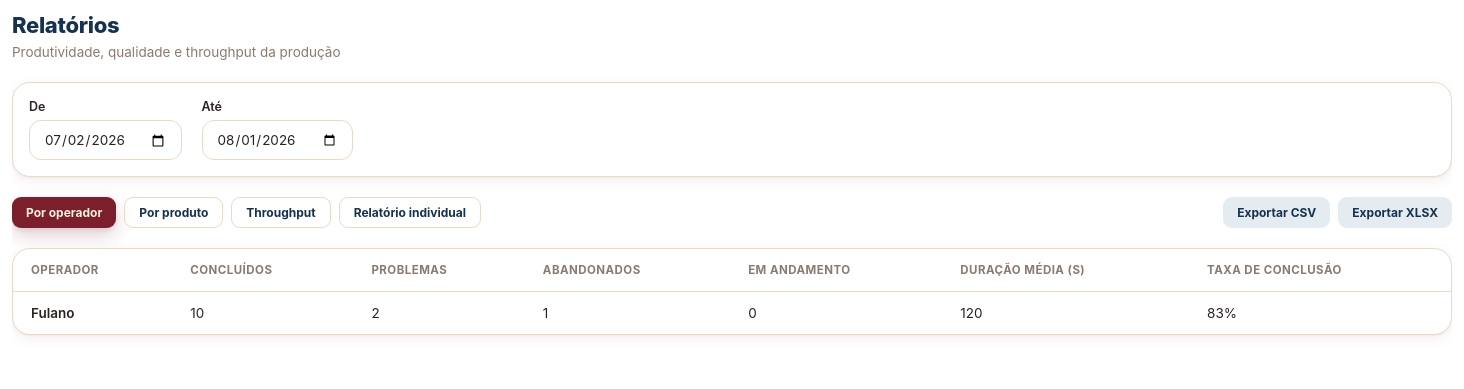
ReportsScreen › mostra erro genérico quando a exportação falha por um motivo que não é erro de domínio
Expected: the text "Fulano" is shown, 13,292 -> 172,334
Click the button with test id "export-csv". click: (1277, 213)
box: 1223,197 -> 1330,228
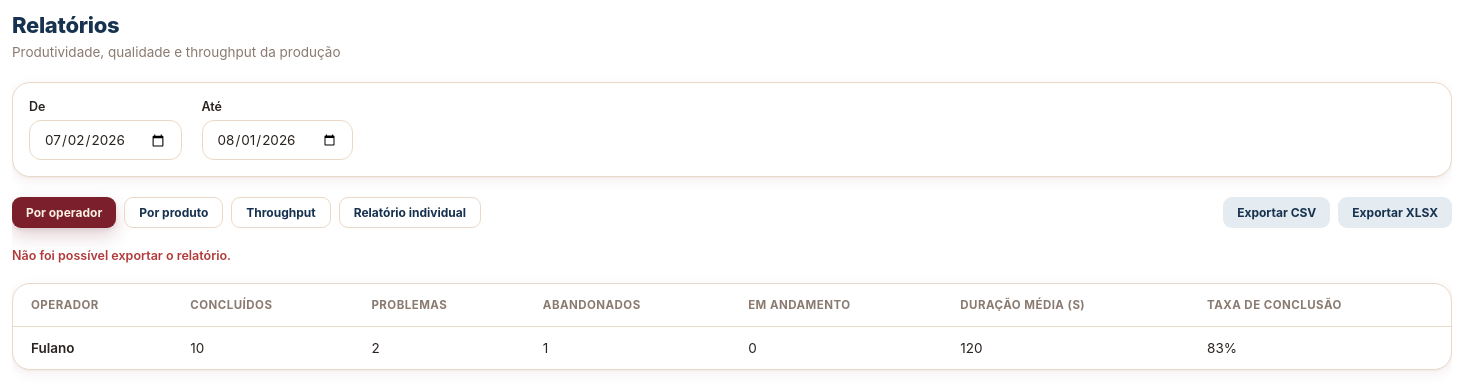
Now the text "Não foi possível exportar o relatório." is shown, box 12,248 -> 231,263
